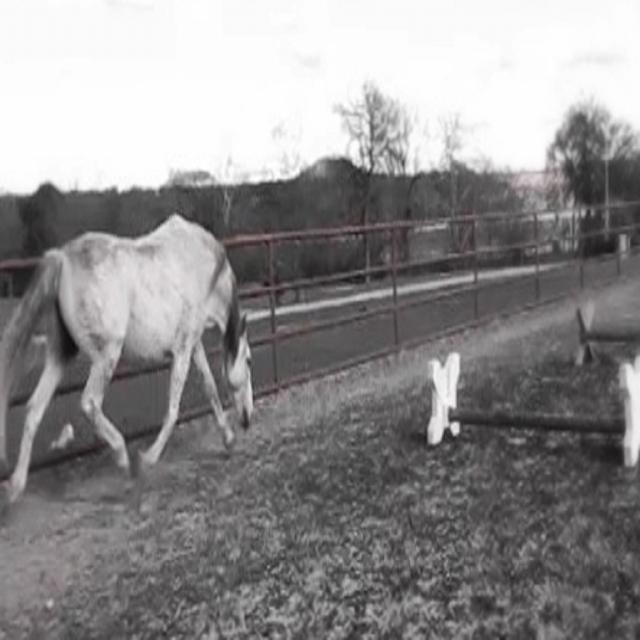Horse: (0, 207, 257, 519)
